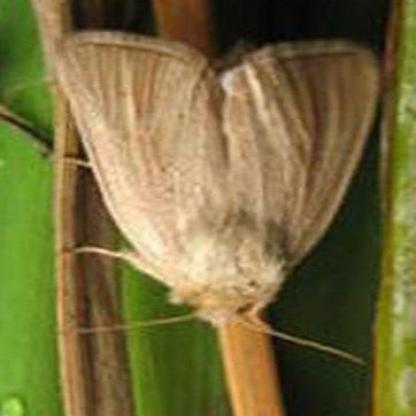stem-borer: (51, 28, 380, 374)
